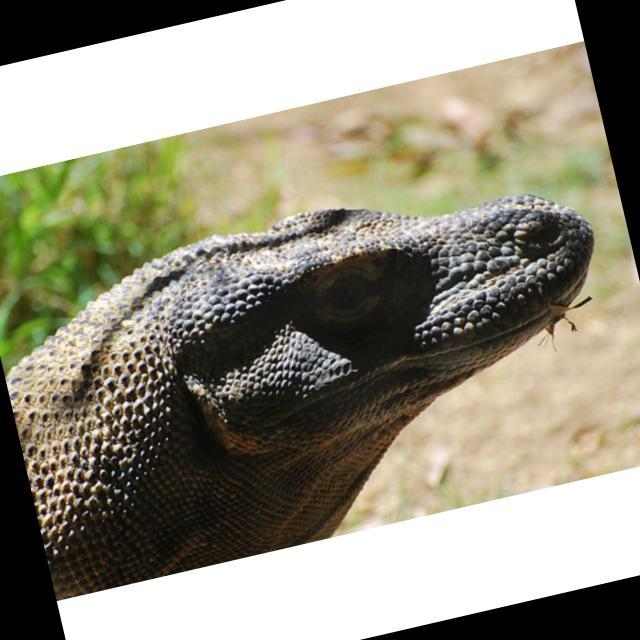KomodoDragon: (0, 143, 640, 597)
